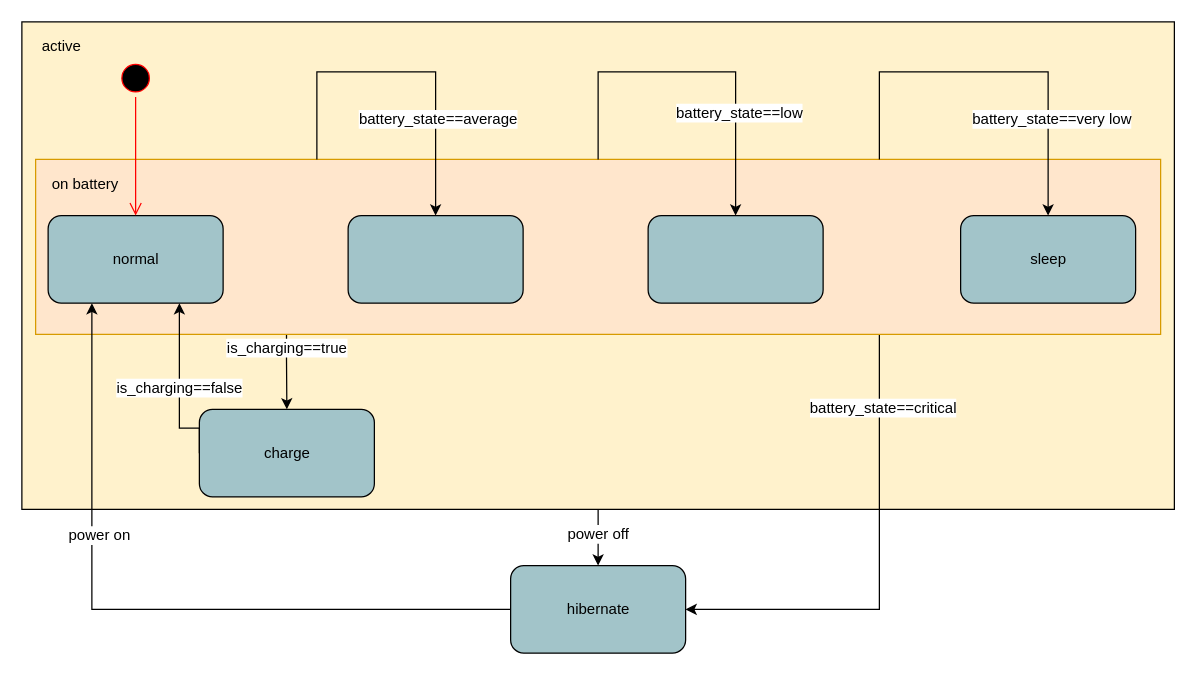
Image size: 1196x675. Some labels were removed from this diagram. The box of each missing label's shape, as (x1, y1, x2, y2) in pixels:
dim light: (347, 214, 523, 303)
screen off: (647, 214, 823, 303)
